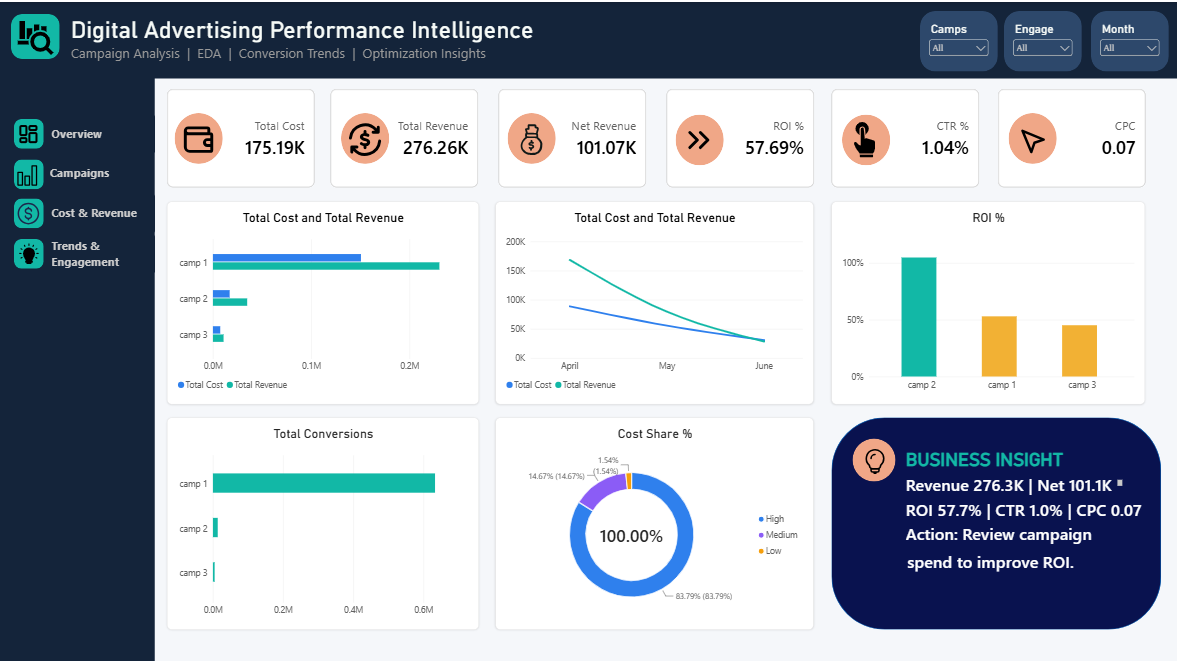

The dashboard page shown, as its layout file describes it:
{"tool":"powerbi","page":{"name":"Executive Overview","canvas":[1920,1080],"ordinal":0},"visuals":[{"type":"textbox","box":[12.5,0,1910,22.5],"z":0},{"type":"shape","box":[0,0,253.3,1080],"z":1000},{"type":"shape","box":[183,0,1737.1,124.4],"z":2000},{"type":"actionButton","box":[72,183,180.8,63.8],"z":3000},{"type":"textbox","title":"Digital Advertising Performance Intelligence","box":[117.5,22.5,788.8,81.2],"z":4000},{"type":"actionButton","box":[72.5,311.7,180.8,63.8],"z":5000},{"type":"actionButton","box":[70.8,247.5,180.8,63.8],"z":6000},{"type":"shape","box":[20,20,79.2,73.3],"z":7000},{"type":"image","box":[2.5,21.7,115,70.8],"z":8000},{"type":"shape","box":[23.3,190.8,48.3,48.3],"z":9000},{"type":"shape","box":[23.3,255,48.3,48.3],"z":10000},{"type":"shape","box":[23.6,319.3,48.3,48.3],"z":11000},{"type":"shape","box":[23.3,385.8,48.3,48.3],"z":12000},{"type":"image","box":[26.4,195.7,42.1,39.3],"z":13000},{"type":"image","box":[30,262.7,33.6,37.3],"z":14000},{"type":"image","box":[26.4,324.3,42.1,39.3],"z":15000},{"type":"image","box":[31,393,34,33],"z":16000},{"type":"shape","box":[1775.3,14,126.7,98.3],"z":17000},{"type":"slicer","fields":{"Values":["AdPerformance.month"]},"box":[1785.3,31.3,106.4,64.5],"z":18000},{"type":"shape","box":[1635.3,14,126.7,98.3],"z":19000},{"type":"shape","box":[1498,14,126.7,98.3],"z":20000},{"type":"slicer","fields":{"Values":["AdPerformance.user_engagement"]},"box":[1645.3,31.3,106.4,64.5],"z":21000},{"type":"slicer","fields":{"Values":["AdPerformance.campaign_number"]},"box":[1508,31.3,106.4,64.5],"z":22000},{"type":"cardVisual","fields":{"Data":["AdPerformance.Total Cost"]},"box":[272.5,142.5,240,160],"z":23000},{"type":"cardVisual","fields":{"Data":["AdPerformance.Total Revenue"]},"box":[540,142.5,240,160],"z":24000},{"type":"cardVisual","fields":{"Data":["AdPerformance.Net Revenue"]},"box":[812.5,142.5,240,160],"z":25000},{"type":"cardVisual","fields":{"Data":["AdPerformance.ROI %"]},"box":[1085,142.5,240,160],"z":26000},{"type":"cardVisual","fields":{"Data":["AdPerformance.CTR %"]},"box":[1355,142.5,240,160],"z":27000},{"type":"cardVisual","fields":{"Data":["AdPerformance.CPC"]},"box":[1625,142.5,240,160],"z":28000},{"type":"shape","box":[555.5,180.9,78.6,82.9],"z":29000},{"type":"shape","box":[285.5,180.9,78.6,82.9],"z":30000},{"type":"shape","box":[828.2,180.9,78.6,82.9],"z":31000},{"type":"shape","box":[1100.9,181.8,78.6,82.9],"z":32000},{"type":"shape","box":[1370,181.8,78.6,82.9],"z":33000},{"type":"shape","box":[1641.1,181.1,78.6,82.9],"z":34000},{"type":"image","box":[294.5,195.5,59.1,57.3],"z":35000},{"type":"image","box":[565,194,59.1,57.3],"z":36000},{"type":"image","box":[837.3,194.5,59.1,57.3],"z":37000},{"type":"image","box":[1379.1,195.5,59.1,57.3],"z":38000},{"type":"image","box":[1108.8,196.2,61,58.6],"z":39000},{"type":"image","box":[1655.6,200,48.6,51.4],"z":40000},{"type":"clusteredBarChart","title":"Total Cost and Total Revenue","fields":{"Category":["AdPerformance.campaign_number"],"Y":["AdPerformance.Total Cost","AdPerformance.Total Revenue"]},"box":[272.5,325,507.5,330],"z":41000},{"type":"lineChart","title":"Total Cost and Total Revenue","fields":{"Category":["AdPerformance.month"],"Y":["AdPerformance.Total Cost","AdPerformance.Total Revenue"]},"box":[807.5,325,517.5,330],"z":42000},{"type":"donutChart","title":"Cost Share %","fields":{"Category":["AdPerformance.user_engagement"],"Y":["AdPerformance.Cost Share %"]},"box":[807.5,675,517.5,345],"z":43000},{"type":"clusteredBarChart","title":"Total Conversions","fields":{"Category":["AdPerformance.campaign_number"],"Y":["AdPerformance.Total Conversions"]},"box":[272.5,675,507.5,345],"z":44000},{"type":"clusteredColumnChart","title":"ROI %","fields":{"Category":["AdPerformance.campaign_number"],"Y":["AdPerformance.ROI %"]},"box":[1355,325,510,330],"z":45000},{"type":"shape","box":[1355,675,536.2,345],"z":46000},{"type":"cardVisual","fields":{"Data":["AdPerformance.Insight Line 1"]},"box":[1460,757.5,448,56],"z":47000},{"type":"cardVisual","fields":{"Data":["AdPerformance.Insight Line 2"]},"box":[1460,800,418.8,50],"z":48000},{"type":"cardVisual","fields":{"Data":["AdPerformance.Insight Line 3"]},"box":[1460,842.5,427.8,46.7],"z":49000},{"type":"cardVisual","fields":{"Data":["AdPerformance.Insight Line 4"]},"box":[1462.5,890,366,36.6],"z":50000},{"type":"textbox","title":"BUSINESS INSIGHT","box":[1378,728,448.8,60],"z":51000},{"type":"shape","box":[1389,711,70,70],"z":52000},{"type":"image","box":[1402,726,44,41],"z":53000},{"type":"actionButton","box":[72.5,378.3,180.8,63.8],"z":54000}]}

Visuals, with their boxes on the page's 1920x1080 design canvas (x1, y1, x2, y2). These are canvas units, not pixel positions in the 1177x661 screenshot, which may show the page scaled, cropped or inside an application window:
textbox: box(12, 0, 1922, 22)
shape: box(0, 0, 253, 1080)
shape: box(183, 0, 1920, 124)
actionButton: box(72, 183, 253, 247)
"Digital Advertising Performance Intelligence" textbox: box(118, 22, 906, 104)
actionButton: box(72, 312, 253, 376)
actionButton: box(71, 248, 252, 311)
shape: box(20, 20, 99, 93)
image: box(2, 22, 118, 92)
shape: box(23, 191, 72, 239)
shape: box(23, 255, 72, 303)
shape: box(24, 319, 72, 368)
shape: box(23, 386, 72, 434)
image: box(26, 196, 68, 235)
image: box(30, 263, 64, 300)
image: box(26, 324, 68, 364)
image: box(31, 393, 65, 426)
shape: box(1775, 14, 1902, 112)
slicer - AdPerformance.month: box(1785, 31, 1892, 96)
shape: box(1635, 14, 1762, 112)
shape: box(1498, 14, 1625, 112)
slicer - AdPerformance.user_engagement: box(1645, 31, 1752, 96)
slicer - AdPerformance.campaign_number: box(1508, 31, 1614, 96)
cardVisual - AdPerformance.Total Cost: box(272, 142, 512, 302)
cardVisual - AdPerformance.Total Revenue: box(540, 142, 780, 302)
cardVisual - AdPerformance.Net Revenue: box(812, 142, 1052, 302)
cardVisual - AdPerformance.ROI %: box(1085, 142, 1325, 302)
cardVisual - AdPerformance.CTR %: box(1355, 142, 1595, 302)
cardVisual - AdPerformance.CPC: box(1625, 142, 1865, 302)
shape: box(556, 181, 634, 264)
shape: box(286, 181, 364, 264)
shape: box(828, 181, 907, 264)
shape: box(1101, 182, 1180, 265)
shape: box(1370, 182, 1449, 265)
shape: box(1641, 181, 1720, 264)
image: box(294, 196, 354, 253)
image: box(565, 194, 624, 251)
image: box(837, 194, 896, 252)
image: box(1379, 196, 1438, 253)
image: box(1109, 196, 1170, 255)
image: box(1656, 200, 1704, 251)
"Total Cost and Total Revenue" clusteredBarChart: box(272, 325, 780, 655)
"Total Cost and Total Revenue" lineChart: box(808, 325, 1325, 655)
"Cost Share %" donutChart: box(808, 675, 1325, 1020)
"Total Conversions" clusteredBarChart: box(272, 675, 780, 1020)
"ROI %" clusteredColumnChart: box(1355, 325, 1865, 655)
shape: box(1355, 675, 1891, 1020)
cardVisual - AdPerformance.Insight Line 1: box(1460, 758, 1908, 814)
cardVisual - AdPerformance.Insight Line 2: box(1460, 800, 1879, 850)
cardVisual - AdPerformance.Insight Line 3: box(1460, 842, 1888, 889)
cardVisual - AdPerformance.Insight Line 4: box(1462, 890, 1828, 927)
"BUSINESS INSIGHT" textbox: box(1378, 728, 1827, 788)
shape: box(1389, 711, 1459, 781)
image: box(1402, 726, 1446, 767)
actionButton: box(72, 378, 253, 442)
